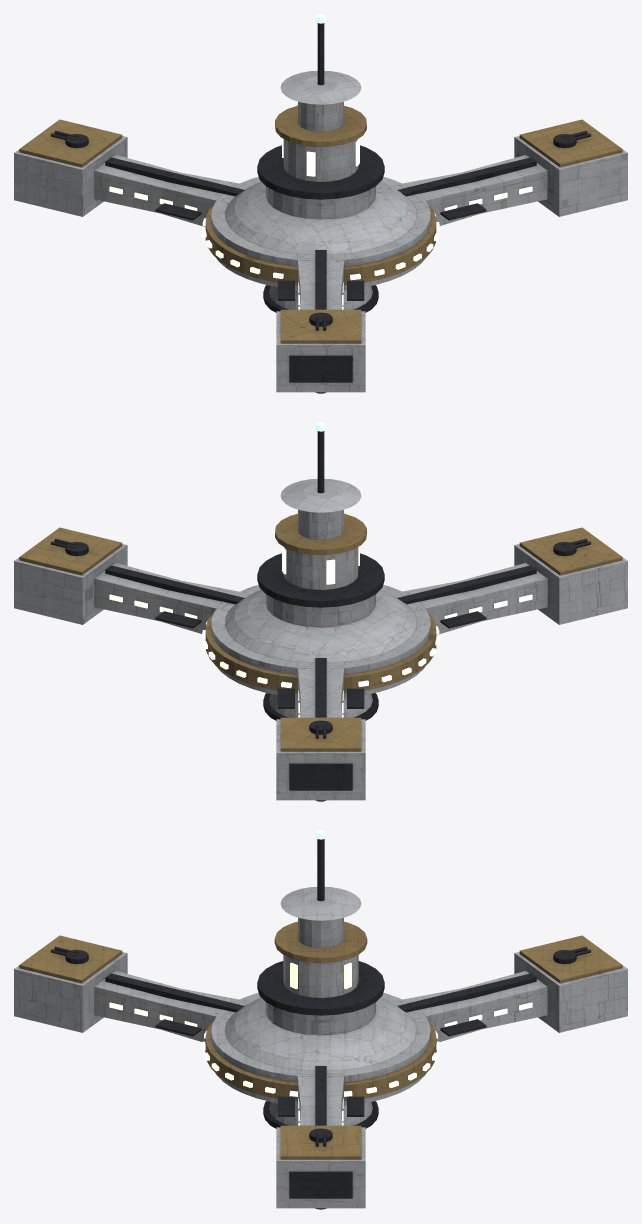
File: trade-station.glb
3 renders of one model, top to bottom at view 1: azimuth 30°, elevation 25°; view 2: azimuth 150°, elevation 25°; view 3: azimuth 270°, elevation 25°, orthographic.
Visible parts, largest first — view 1: XQ1; view 2: XQ1; view 3: XQ1.
Boxes of the visible parts, x1,y1,x2,y2 form: XQ1: [14, 14, 627, 393]; XQ1: [14, 422, 627, 801]; XQ1: [14, 830, 627, 1209].
Size of the model in its own units: 3.7 by 2.86 by 4.25.
5 materials, 5 textured.
